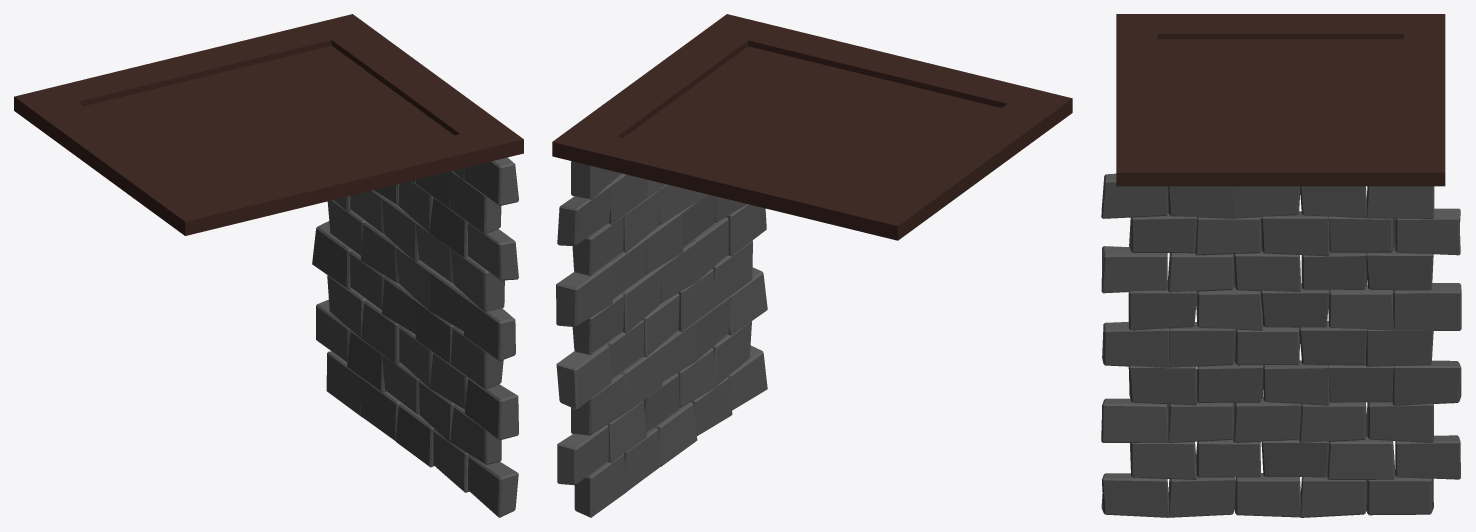
The model's file is BrickWall-Stone-Roof-Flat.fbx.
3 views of the same model, side by side, from view 1: azimuth 30°, elevation 25°; view 2: azimuth 150°, elevation 25°; view 3: azimuth 270°, elevation 25° (orthographic). The views are drawn at different scales.
Parts seen in each view (by area): view 1: Cube.003, Stone Base wall.005; view 2: Cube.003, Stone Base wall.005; view 3: Stone Base wall.005, Cube.003.
Part boxes in pixels (box(x1,y1,x2,y2)): Cube.003: box(14, 14, 523, 235); Stone Base wall.005: box(312, 157, 518, 517); Cube.003: box(552, 14, 1072, 240); Stone Base wall.005: box(556, 161, 767, 517); Stone Base wall.005: box(1101, 173, 1461, 517); Cube.003: box(1116, 14, 1445, 186).
Size of the model in its own units: 910 by 940 by 874.
